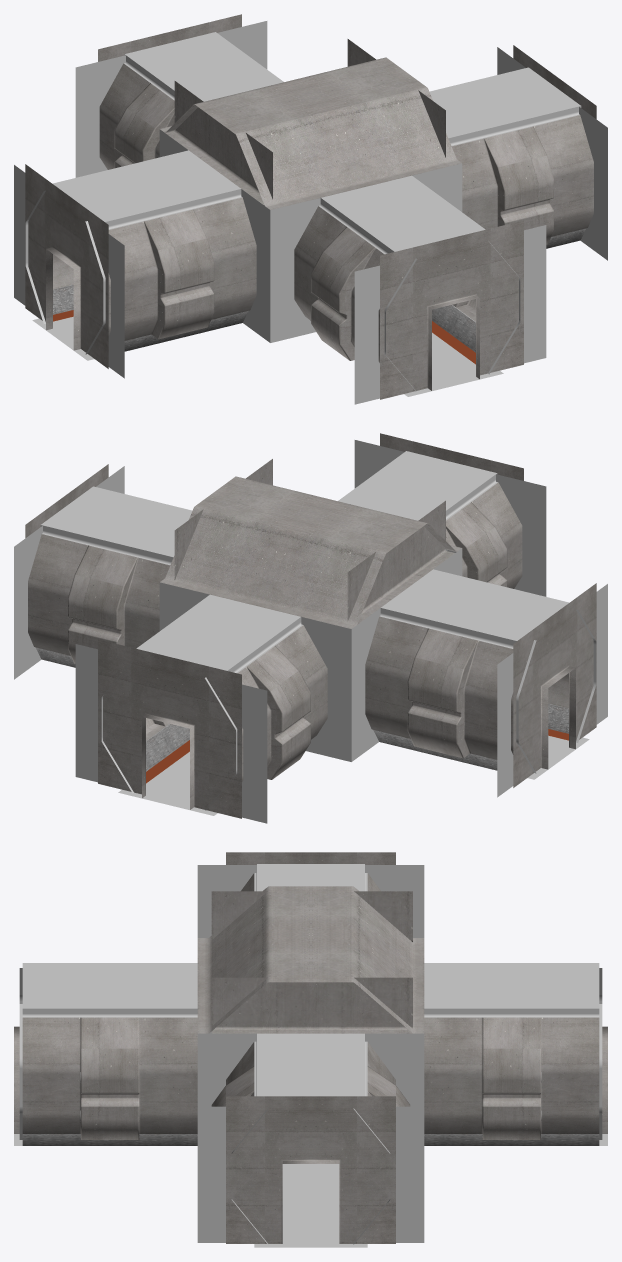
File: HC_room4.gltf
The picture shows the model from 3 angles, top to bottom: view 1: azimuth 30°, elevation 25°; view 2: azimuth 150°, elevation 25°; view 3: azimuth 270°, elevation 25°; orthographic projection. The views are drawn at different scales.
Visible parts, largest first — view 1: Room4_HCZ; view 2: Room4_HCZ; view 3: Room4_HCZ.
Boxes of the visible parts, x1,y1,x2,y2 form: Room4_HCZ: (14,14,607,404); Room4_HCZ: (14,433,607,823); Room4_HCZ: (14,852,607,1247).
Bounding box in the file's own units: 20.94 × 7.3 × 20.94.
